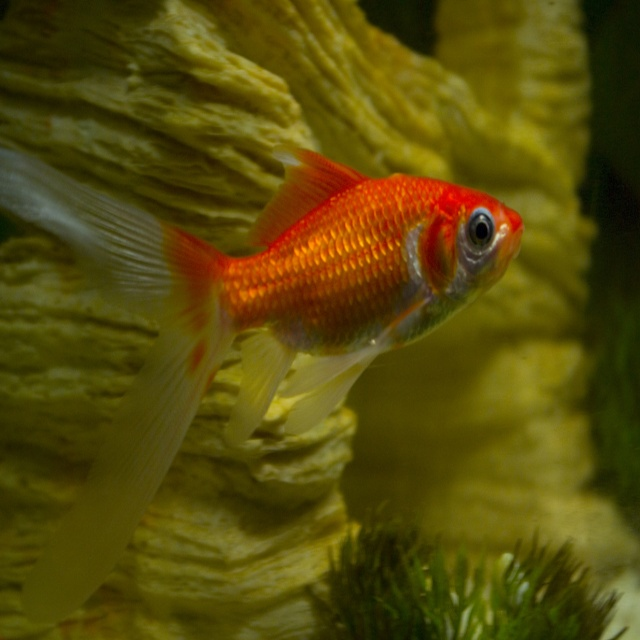Goldfish: (0, 134, 526, 626)
